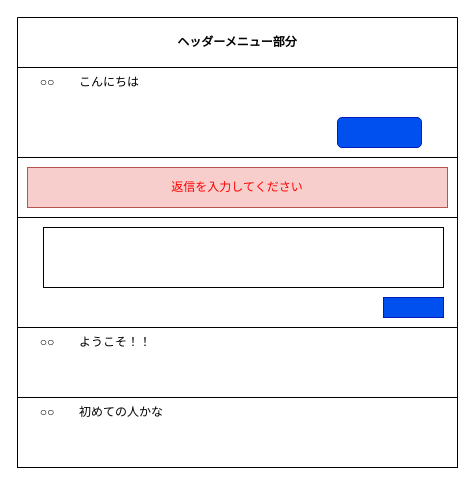
This 475x485 diagram has some shape labels left out. Here are the shapes that lost their labels. From the top down, the centre of each, then its label:
At pixel 379 132: "いいね".
At pixel 413 307: "返信".
